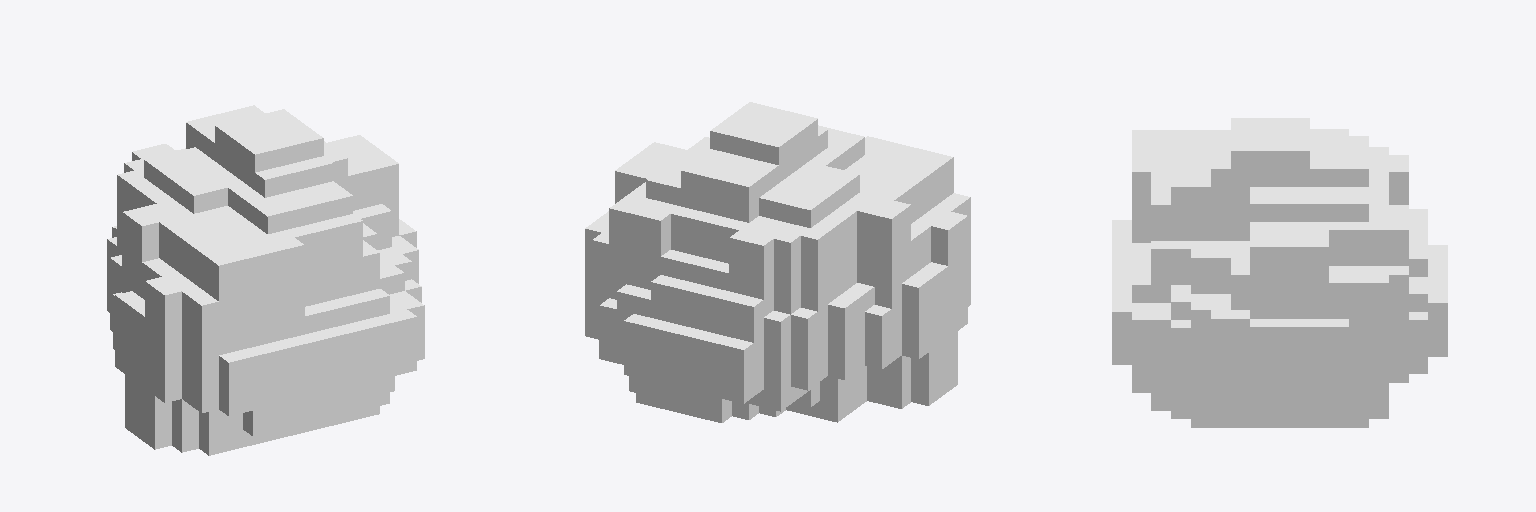
File: rock_2.obj
3 views of the same model, side by side, from view 1: azimuth 30°, elevation 25°; view 2: azimuth 150°, elevation 25°; view 3: azimuth 270°, elevation 25° (orthographic).
Bounding box in the file's own units: 17 × 14 × 17.